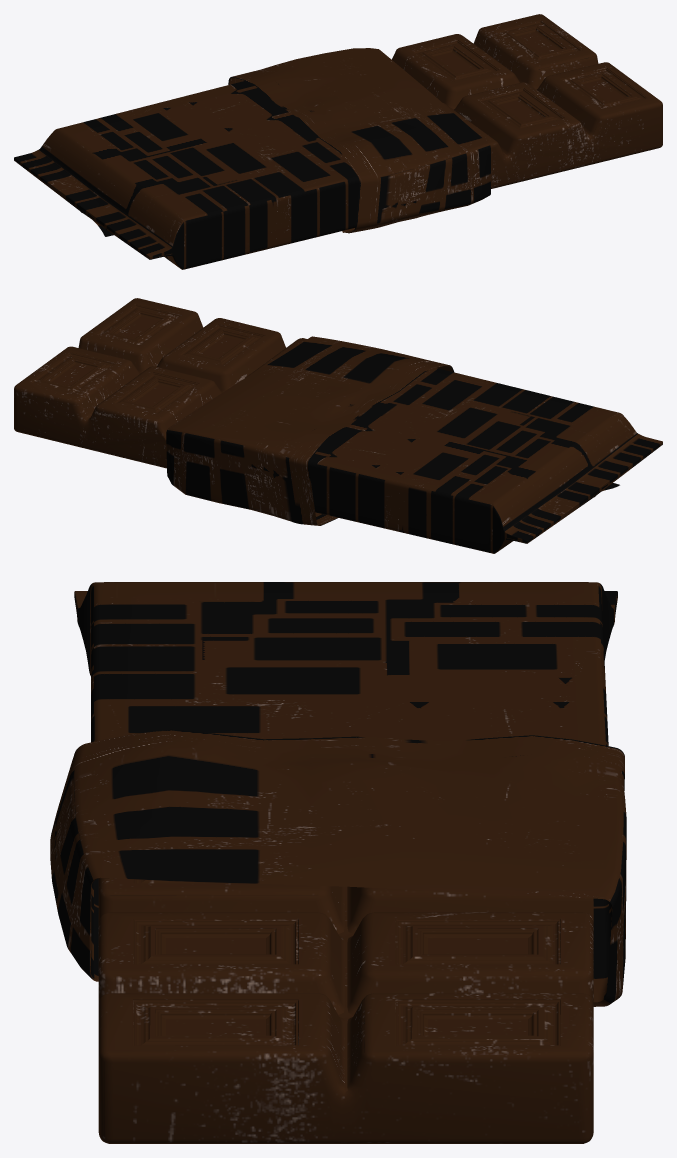
The picture shows the model from 3 angles, top to bottom: view 1: azimuth 30°, elevation 25°; view 2: azimuth 150°, elevation 25°; view 3: azimuth 270°, elevation 25°; orthographic projection. The views are drawn at different scales.
Parts seen in each view (by area): view 1: Wrapper_ModelMain, Chocolate_ModelMain; view 2: Wrapper_ModelMain, Chocolate_ModelMain; view 3: Wrapper_ModelMain, Chocolate_ModelMain.
Part boxes in pixels (x1,y1,x2,y2): Wrapper_ModelMain: (14,48,490,269); Chocolate_ModelMain: (392,14,662,188); Wrapper_ModelMain: (166,336,662,553); Chocolate_ModelMain: (14,298,307,468); Wrapper_ModelMain: (50,582,626,1006); Chocolate_ModelMain: (98,878,593,1143).
Size of the model in its own units: 371 by 57.87 by 177.
Materials: 2 (2 with a texture image).
